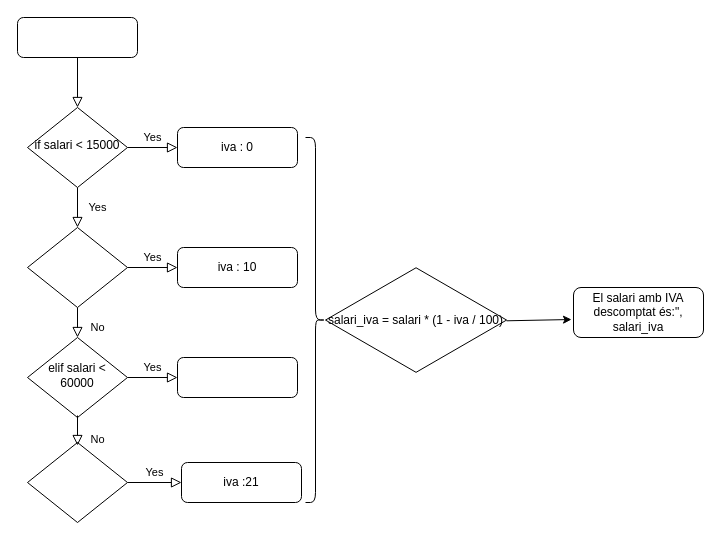
Some shapes in this 721 by 540 pixel diagram are drawn without their labels. Each missing label, with the centre of its shape:
"Definir Salari" goes at (77,37).
"elif salari < 30000" goes at (77,267).
"else" goes at (77,482).
"iva : 21" goes at (237,377).
